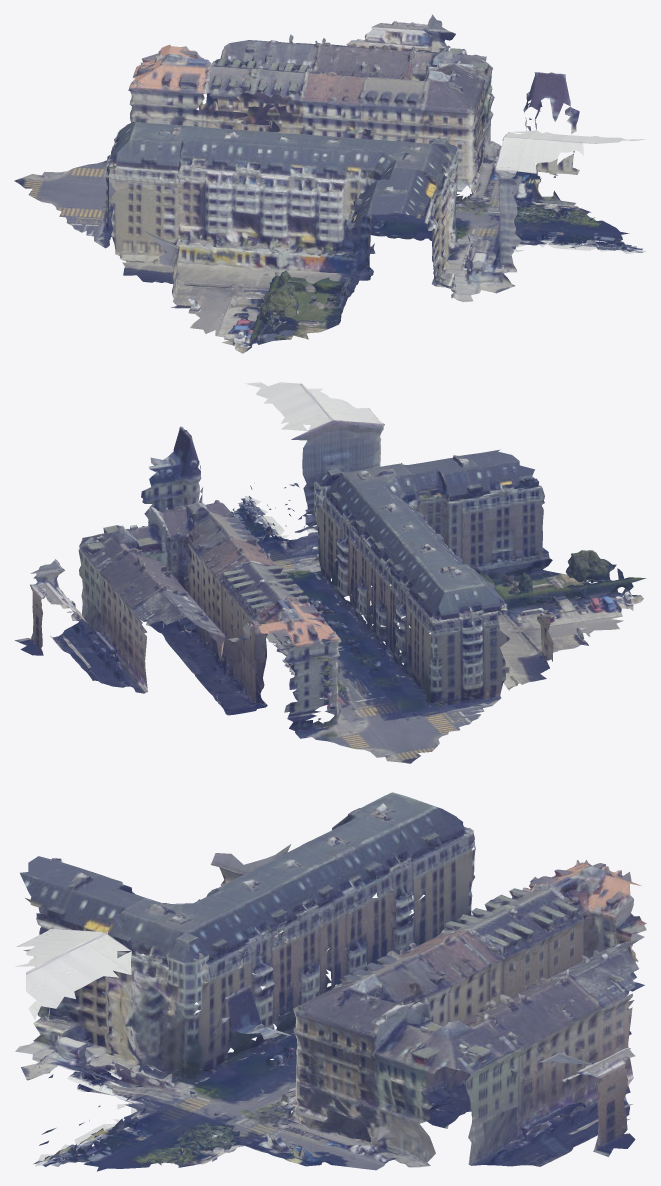
The picture shows the model from 3 angles, top to bottom: view 1: azimuth 30°, elevation 25°; view 2: azimuth 150°, elevation 25°; view 3: azimuth 270°, elevation 25°; orthographic projection. The views are drawn at different scales.
Size of the model in its own units: 110 by 33.35 by 108.
Materials: 1 (1 with a texture image).
